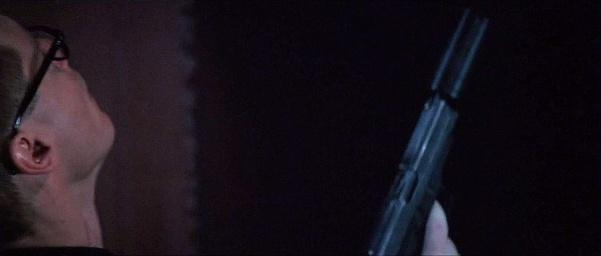Gun: (365, 4, 493, 256)
